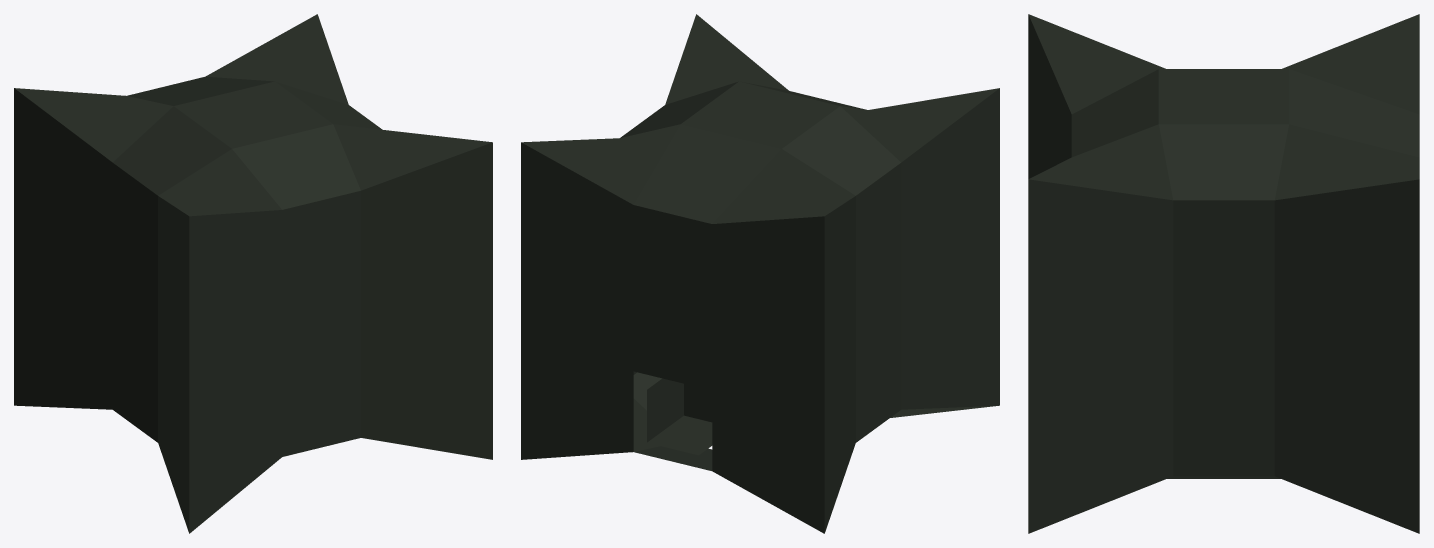
Rendered from dart_statue_head.fbx.
3 views of the same model, side by side, from view 1: azimuth 30°, elevation 25°; view 2: azimuth 150°, elevation 25°; view 3: azimuth 270°, elevation 25° (orthographic). The views are drawn at different scales.
Visible parts, largest first — view 1: headVisual.001; view 2: headVisual.001; view 3: headVisual.001.
Boxes of the visible parts, x1,y1,x2,y2 form: headVisual.001: [14, 14, 492, 533]; headVisual.001: [521, 14, 999, 533]; headVisual.001: [1028, 14, 1419, 533].
Size of the model in its own units: 47.34 by 47.34 by 47.34.
1 material, 1 textured.
